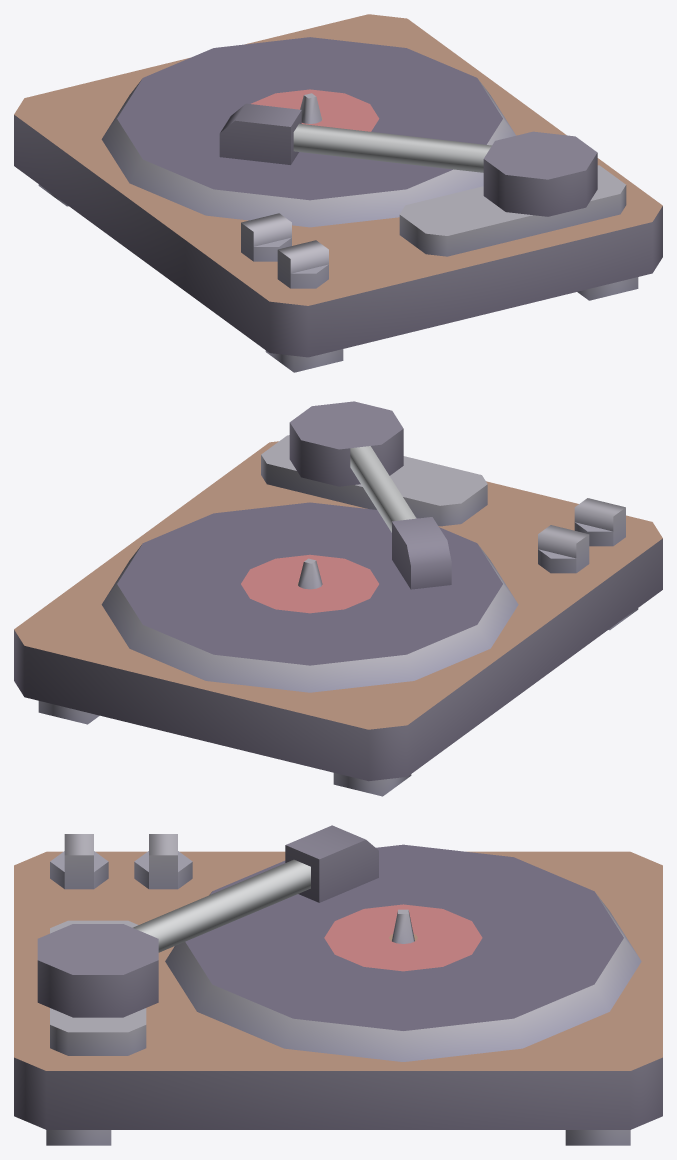
File: record-player.glb
The picture shows the model from 3 angles, top to bottom: view 1: azimuth 30°, elevation 25°; view 2: azimuth 150°, elevation 25°; view 3: azimuth 270°, elevation 25°; orthographic projection. The views are drawn at different scales.
Visible parts, largest first — view 1: record-player; view 2: record-player; view 3: record-player.
Boxes of the visible parts, x1=… form: record-player: x1=14, y1=14, x2=662, y2=372; record-player: x1=14, y1=401, x2=662, y2=796; record-player: x1=14, y1=825, x2=662, y2=1145.
Size of the model in its own units: 0.432 by 0.1516 by 0.54.
